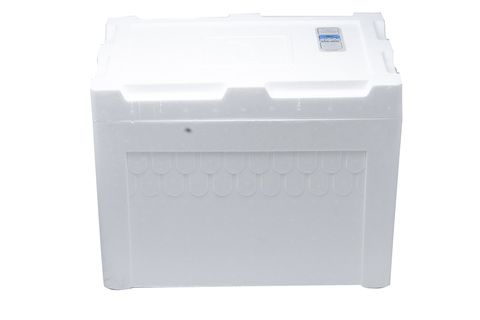Foam Box: (84, 8, 407, 293)
